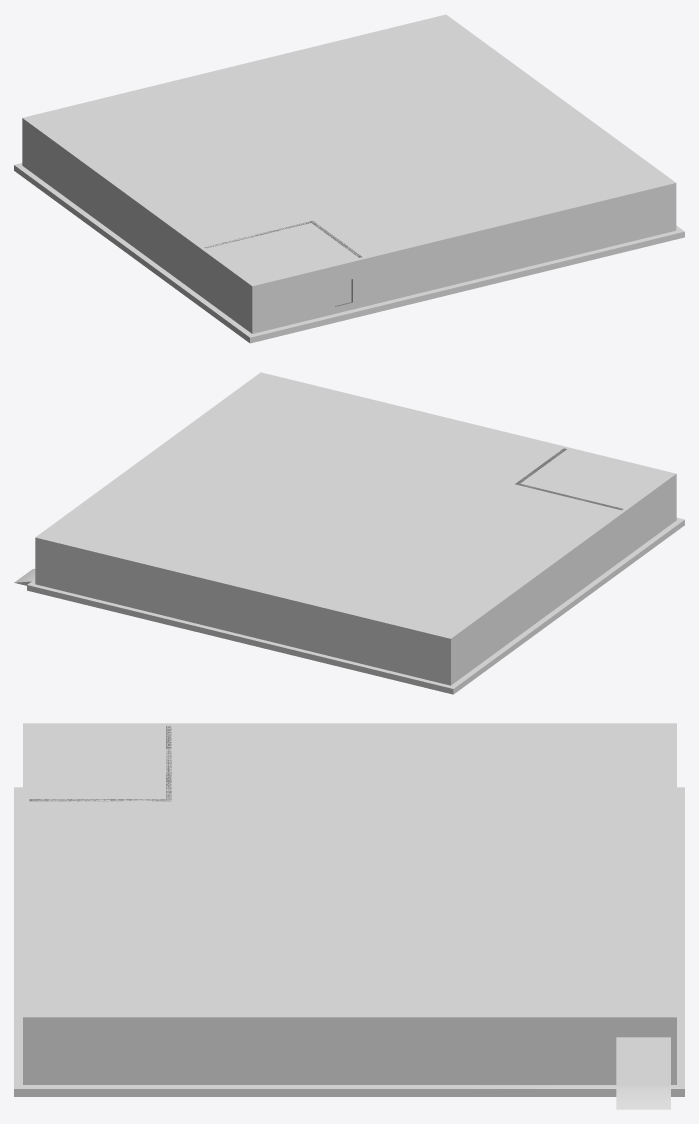
File: map13_9.fbx
3 renders of one model, top to bottom at view 1: azimuth 30°, elevation 25°; view 2: azimuth 150°, elevation 25°; view 3: azimuth 270°, elevation 25°, orthographic. The views are drawn at different scales.
Visible parts, largest first — view 1: roof, MainFrame; view 2: roof, MainFrame; view 3: roof, MainFrame.
Part boxes in pixels (x1,y1,x2,y2): roof: (25, 15, 671, 285); MainFrame: (14, 14, 684, 343); roof: (36, 374, 670, 638); MainFrame: (14, 372, 684, 694); roof: (23, 723, 676, 1016); MainFrame: (14, 723, 684, 1109).
Size of what is drawn, in the model's own units: 5356 by 605 by 4834.
